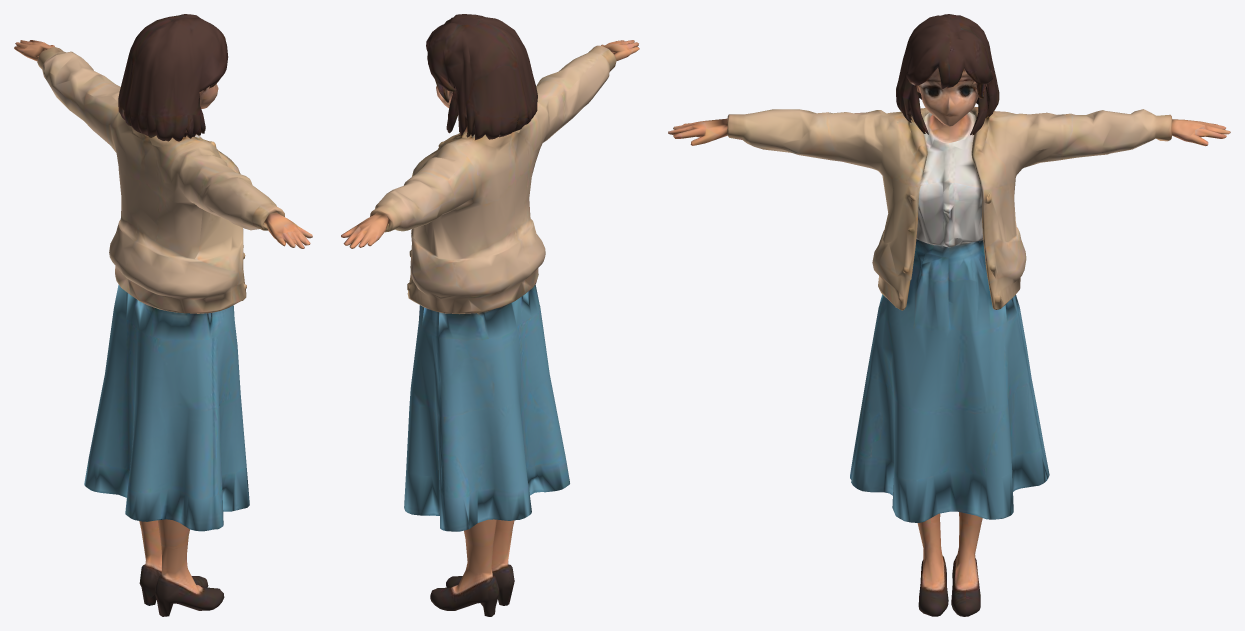
The model's file is casualF.glb.
3 renders of one model, left to right at view 1: azimuth 30°, elevation 25°; view 2: azimuth 150°, elevation 25°; view 3: azimuth 270°, elevation 25°, orthographic.
Parts seen in each view (by area): view 1: tripo_node_7ea2344d-069c-41f3-983e-115e87b874b9; view 2: tripo_node_7ea2344d-069c-41f3-983e-115e87b874b9; view 3: tripo_node_7ea2344d-069c-41f3-983e-115e87b874b9.
Boxes of the visible parts, x1,y1,x2,y2 form: tripo_node_7ea2344d-069c-41f3-983e-115e87b874b9: [14, 14, 312, 616]; tripo_node_7ea2344d-069c-41f3-983e-115e87b874b9: [341, 14, 639, 616]; tripo_node_7ea2344d-069c-41f3-983e-115e87b874b9: [668, 14, 1230, 616].
Size of the model in its own units: 0.2199 by 0.9993 by 0.8753.
1 material, 1 textured.
